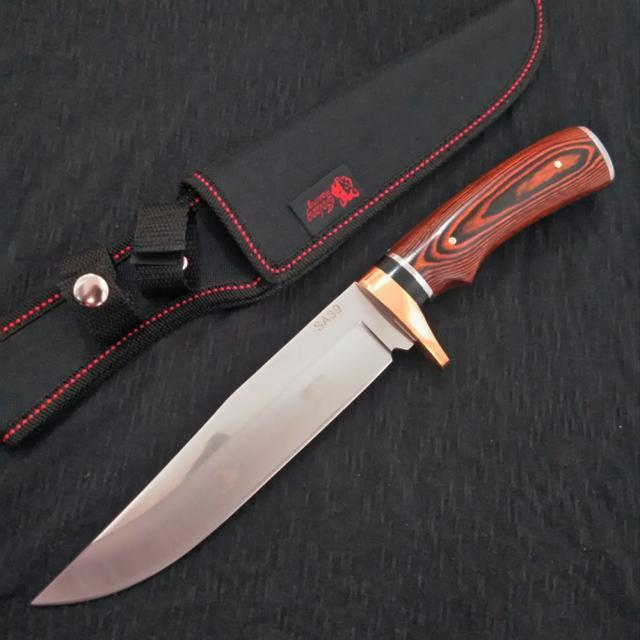Pisau: (29, 120, 623, 614)
